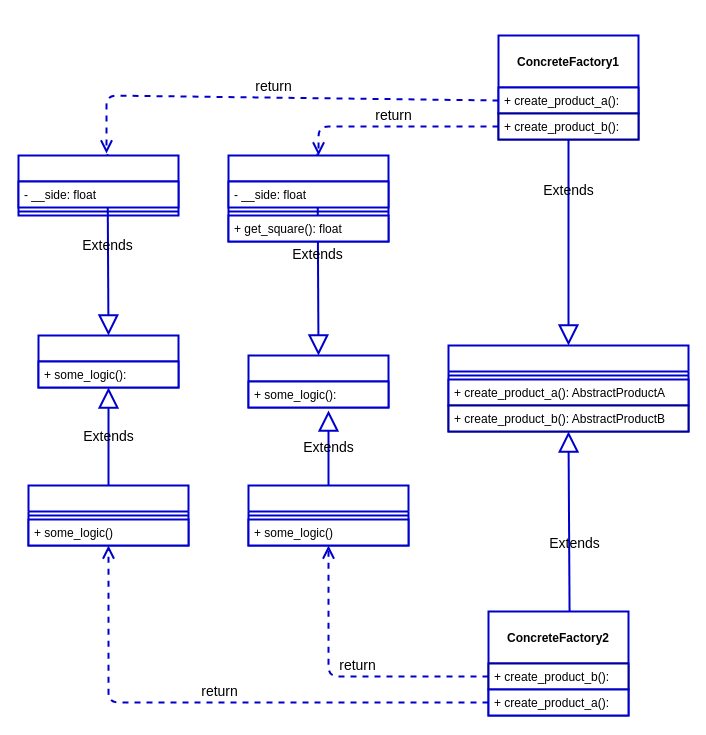
Some shapes in this 706 by 735 pixel diagram are drawn without their labels. The box of each missing label's shape, as (x1, y1, x2, y2) in pixels:
AbstractFactory: (447, 344, 689, 432)
AbstractProductA: (37, 334, 179, 388)
AbstractProductB: (247, 354, 389, 408)
ConcreteProductA1: (17, 154, 179, 216)
ConcreteProductA2: (27, 484, 189, 546)
ConcreteProductB1: (227, 154, 389, 242)
ConcreteProductB2: (247, 484, 409, 546)
